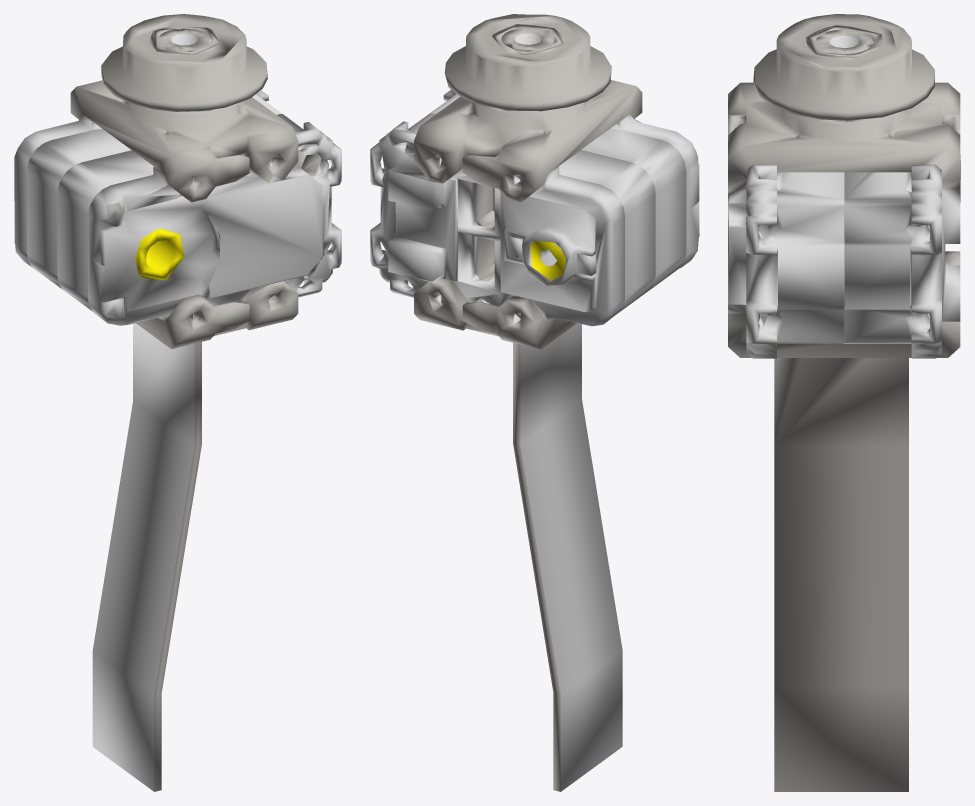
Rendered from yaw.obj.
3 renders of one model, left to right at view 1: azimuth 30°, elevation 25°; view 2: azimuth 150°, elevation 25°; view 3: azimuth 270°, elevation 25°, orthographic. The views are drawn at different scales.
Bounding box in the file's own units: 50 × 141 × 38.08.
